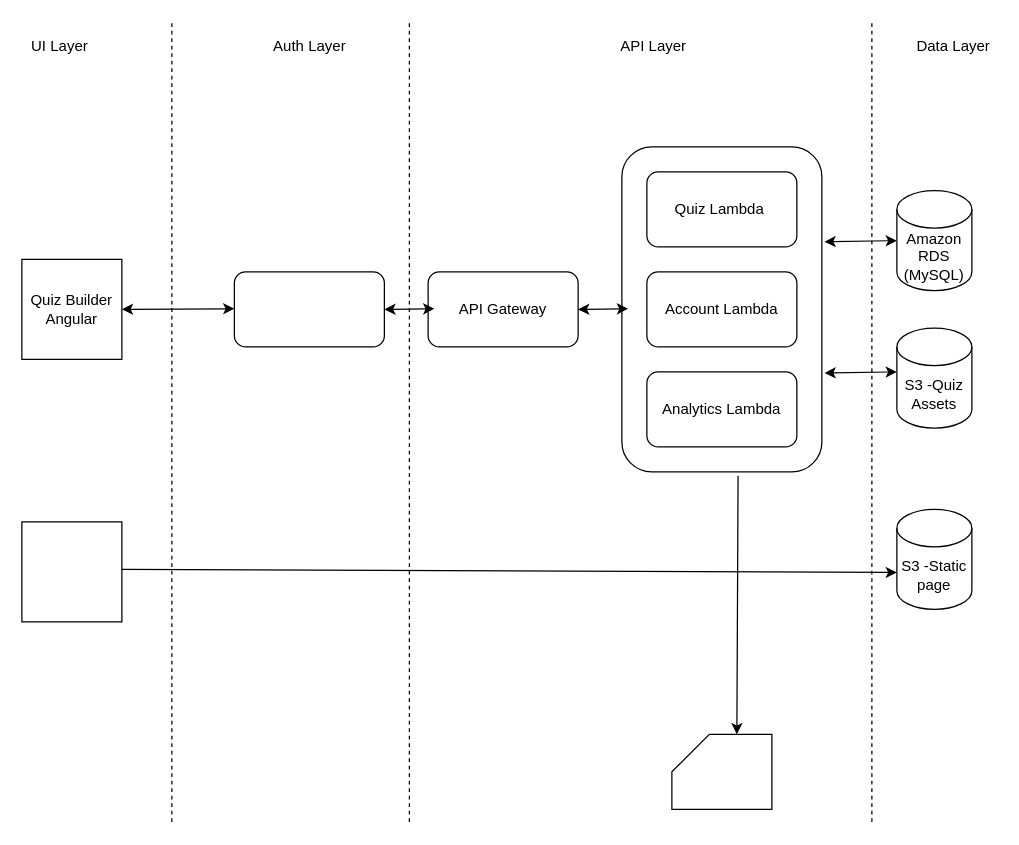
This 1019x845 diagram has some shape labels left out. Each missing label, with the centre of its shape:
"API Authorizer using Cognito" goes at point (308, 309).
"Cloudwatch logs" goes at point (721, 771).
"Quiz Website Svelte" goes at point (71, 571).
